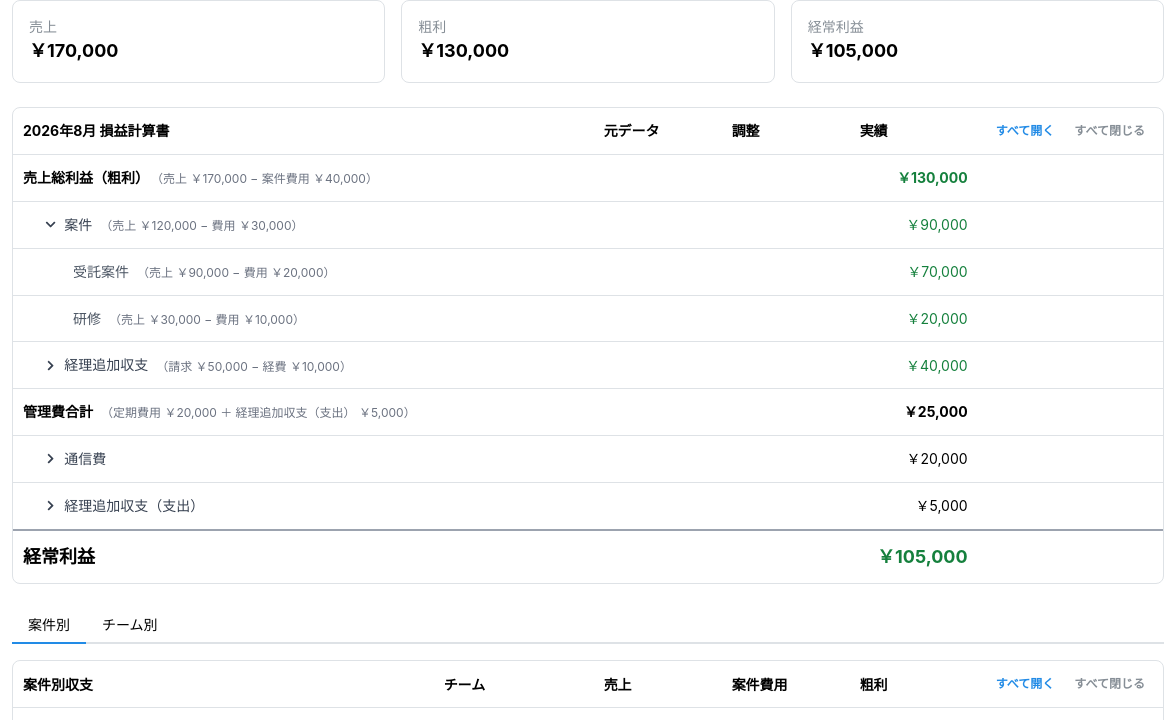
Test: ProfitLossStatement のサマリーカードと損益計算書（Issue #164） › 経理追加収支（支出）は管理費合計の内訳に表示する
The image size is (1164, 720).
Expected: the row "管理費合計（定期費用 ￥20,000 ＋ 経理追加収支（支出） ￥5,000） ￥25,000" is shown, top-left (13, 389), bottom-right (1163, 436)
Expected: the row "経理追加収支（支出） ￥5,000" is shown, top-left (13, 483), bottom-right (1163, 530)
Click the button "経理追加収支（支出）" at (125, 506), box top-left (45, 495), bottom-right (204, 517)
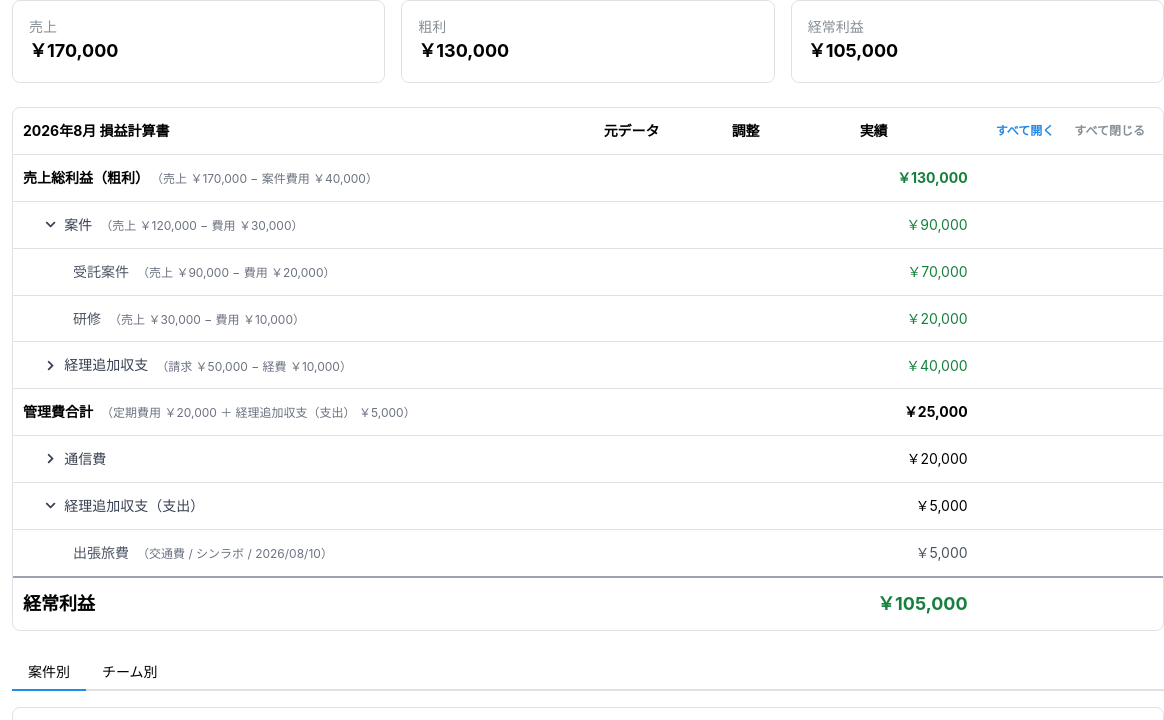
Expected: the row "出張旅費（交通費 / シンラボ / 2026/08/10） ￥5,000" is shown, top-left (13, 530), bottom-right (1163, 577)
